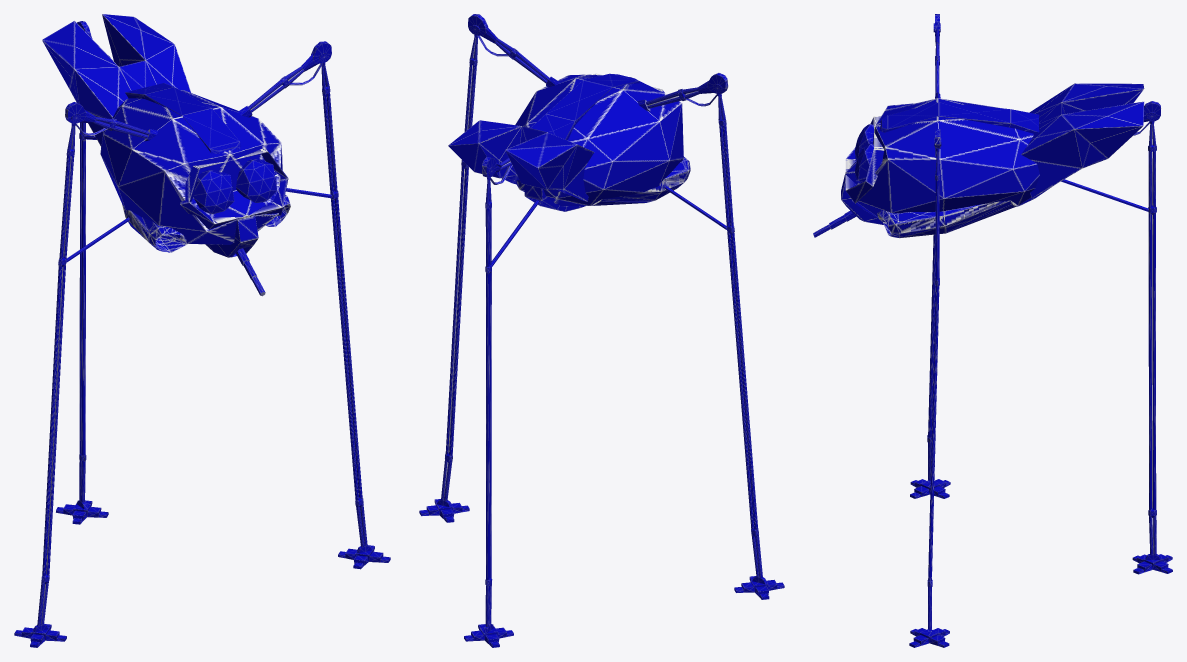
File: tripod3.obj
3 renders of one model, left to right at view 1: azimuth 30°, elevation 25°; view 2: azimuth 150°, elevation 25°; view 3: azimuth 270°, elevation 25°, orthographic. The views are drawn at different scales.
Parts seen in each view (by area): view 1: head, leg, tail, eyes, hat, foot, jets, joints, base, joints3; view 2: head, leg, tail, hat, foot, jets, joints, joints3, base; view 3: head, tail, leg, hat, jets, foot, eyes, base, joints.
Boxes of the visible parts, left/top/right/bottom form: head: left=100, top=90, right=288, bottom=244; leg: left=33, top=55, right=371, bottom=632; tail: left=42, top=14, right=191, bottom=146; eyes: left=193, top=159, right=277, bottom=214; hat: left=125, top=83, right=241, bottom=154; foot: left=14, top=500, right=390, bottom=647; jets: left=122, top=194, right=290, bottom=252; joints: left=65, top=21, right=331, bottom=123; base: left=205, top=216, right=258, bottom=257; joints3: left=66, top=63, right=332, bottom=262; head: left=515, top=73, right=683, bottom=206; leg: left=437, top=34, right=767, bottom=633; tail: left=448, top=120, right=594, bottom=201; hat: left=530, top=73, right=639, bottom=140; foot: left=419, top=499, right=784, bottom=647; jets: left=590, top=157, right=690, bottom=205; joints: left=468, top=14, right=728, bottom=177; joints3: left=477, top=35, right=726, bottom=266; base: left=524, top=184, right=585, bottom=211; head: left=845, top=98, right=1039, bottom=217; tail: left=1021, top=83, right=1144, bottom=197; leg: left=927, top=43, right=1160, bottom=635; hat: left=879, top=102, right=1039, bottom=133; jets: left=877, top=200, right=1017, bottom=238; foot: left=909, top=479, right=1172, bottom=647; eyes: left=855, top=124, right=873, bottom=183; base: left=841, top=174, right=1052, bottom=224; joints: left=933, top=14, right=1160, bottom=148.
Size of the model in its own units: 125 by 174 by 115.
13 materials, 13 textured.
